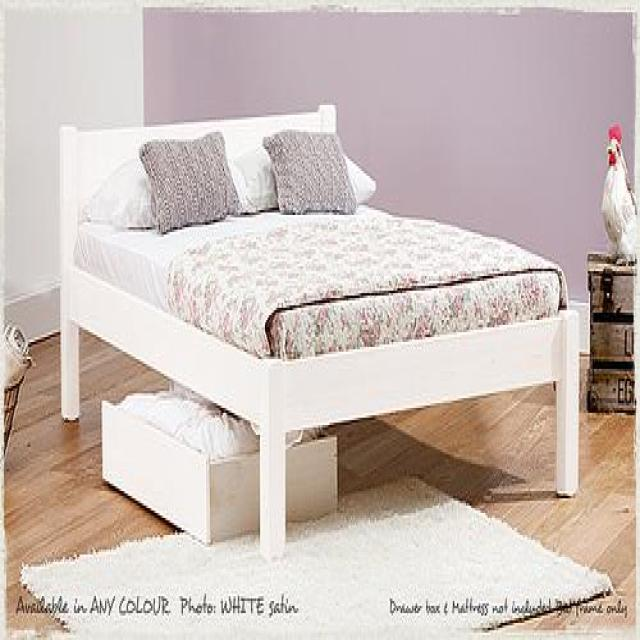bed: (58, 99, 579, 557)
